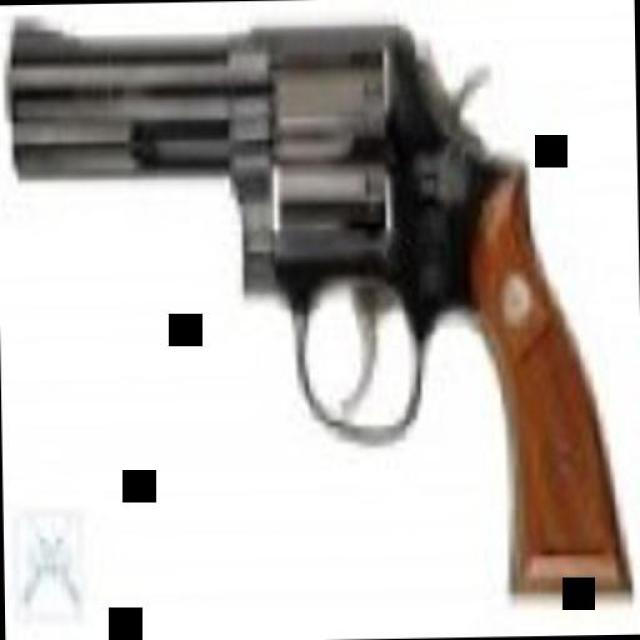gun: (9, 4, 635, 601)
